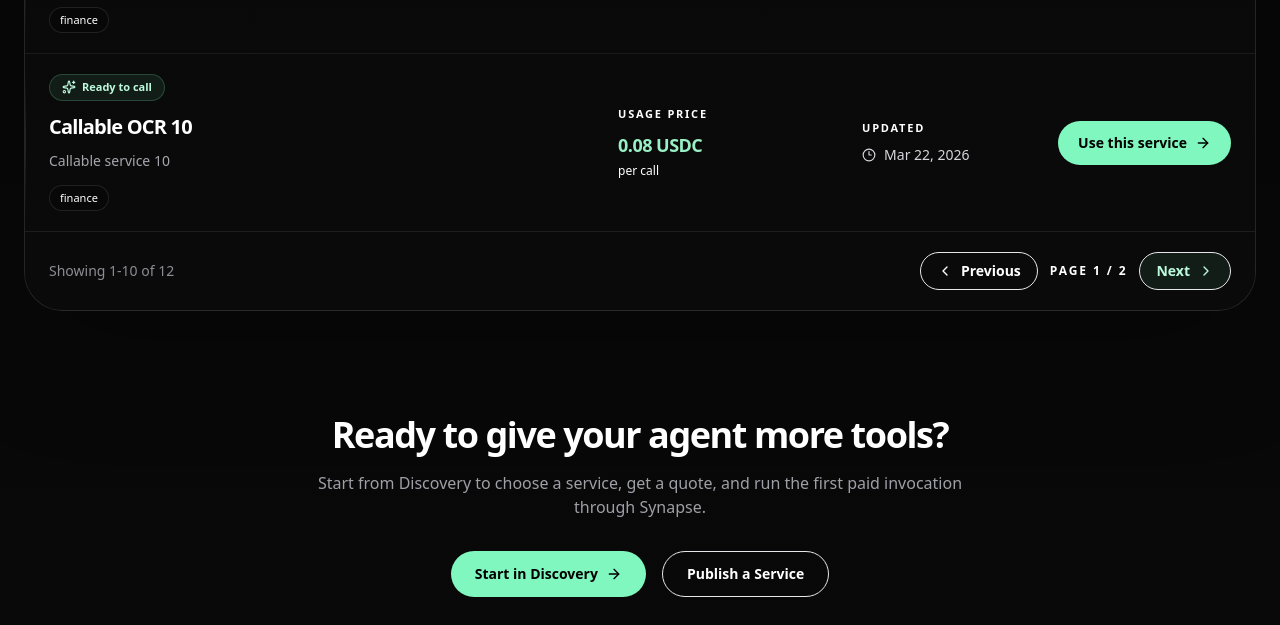
Test: MarketplacePage › renders callable services as a paginated list and resets to page one after search
(page scrolled)
Expected: the heading "Callable OCR 10" is shown, [49,112,192,140]
Expected: the text "Callable OCR 11" is not shown
Step 1. Click the button "Next" → (1185, 271), box [1140,252,1231,290]
(page scrolled)
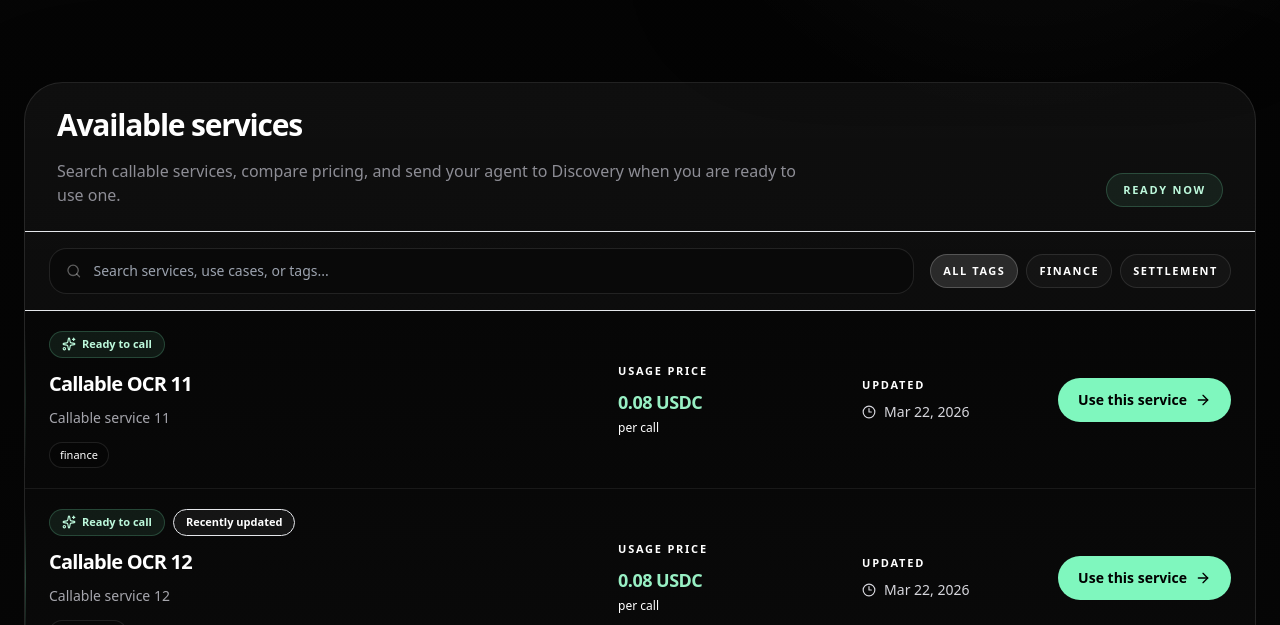
Now the heading "Callable OCR 11" is shown, box [49,370,192,396]
Now the heading "Callable OCR 12" is shown, box [49,548,192,574]
Step 2. Type "12" into the field with placeholder "Search services, use cases, or tags..." → (495, 271), box [94,261,897,281]
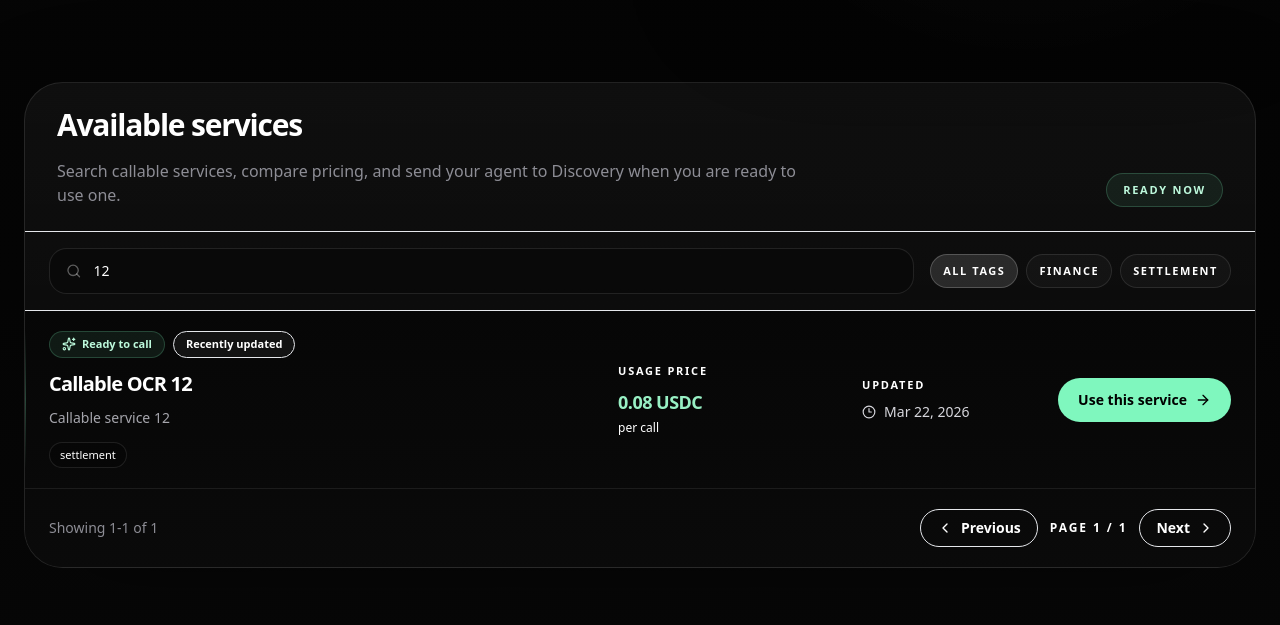
Now the heading "Callable OCR 12" is shown, box [49,370,192,396]
Now the text "Showing 1-1 of 1" is shown, box [49,518,158,538]
